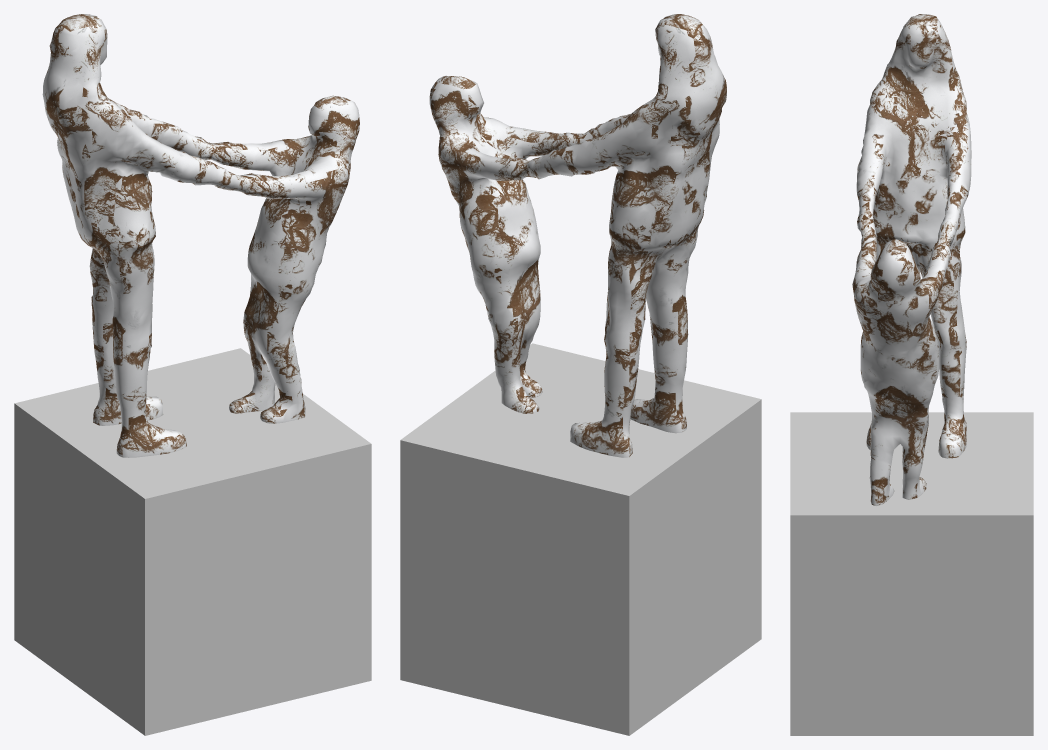
The picture shows the model from 3 angles, left to right: view 1: azimuth 30°, elevation 25°; view 2: azimuth 150°, elevation 25°; view 3: azimuth 270°, elevation 25°; orthographic projection. The views are drawn at different scales.
Visible parts, largest first — view 1: Cube, Remesh.01; view 2: Cube, Remesh.01; view 3: Cube, Remesh.01.
Part boxes in pixels (<box>): Cube: <box>14,348,371,735</box>; Remesh.01: <box>42,14,359,457</box>; Cube: <box>400,343,761,735</box>; Remesh.01: <box>429,14,726,457</box>; Cube: <box>790,412,1033,735</box>; Remesh.01: <box>852,14,971,505</box>.
Size of the model in its own units: 1.28 by 2.75 by 0.9792.
2 materials, 1 textured.
